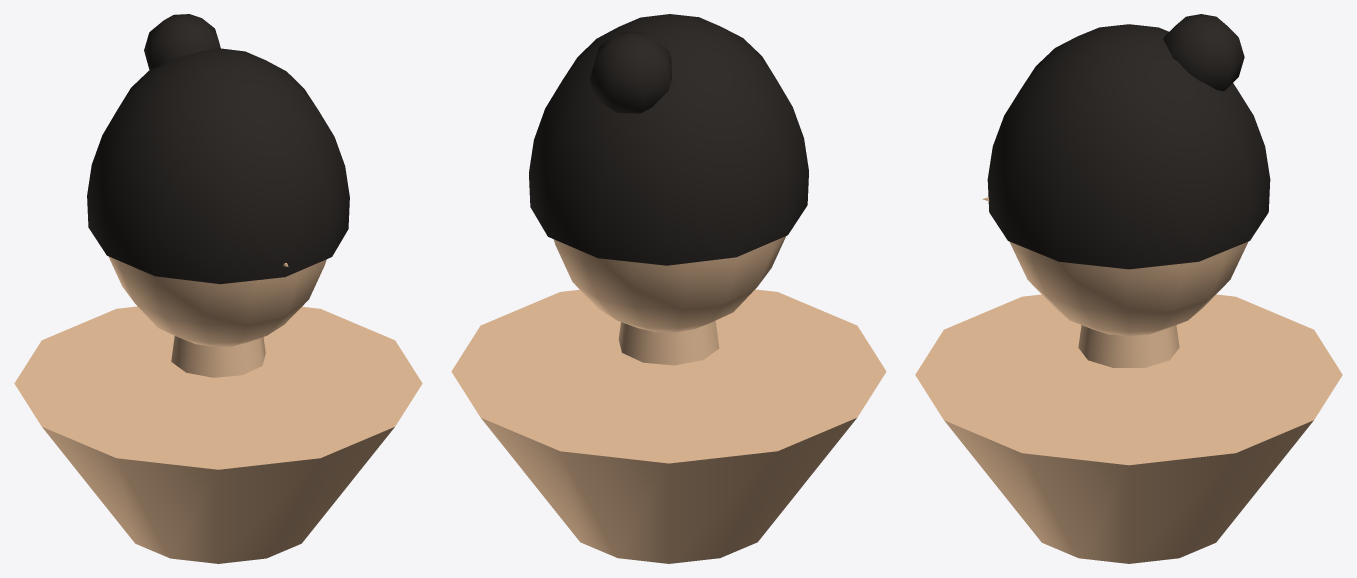
File: portrait01w_002.glb
3 renders of one model, left to right at view 1: azimuth 30°, elevation 25°; view 2: azimuth 150°, elevation 25°; view 3: azimuth 270°, elevation 25°, orthographic. The views are drawn at different scales.
Size of the model in its own units: 1.77 by 2.31 by 1.77.
